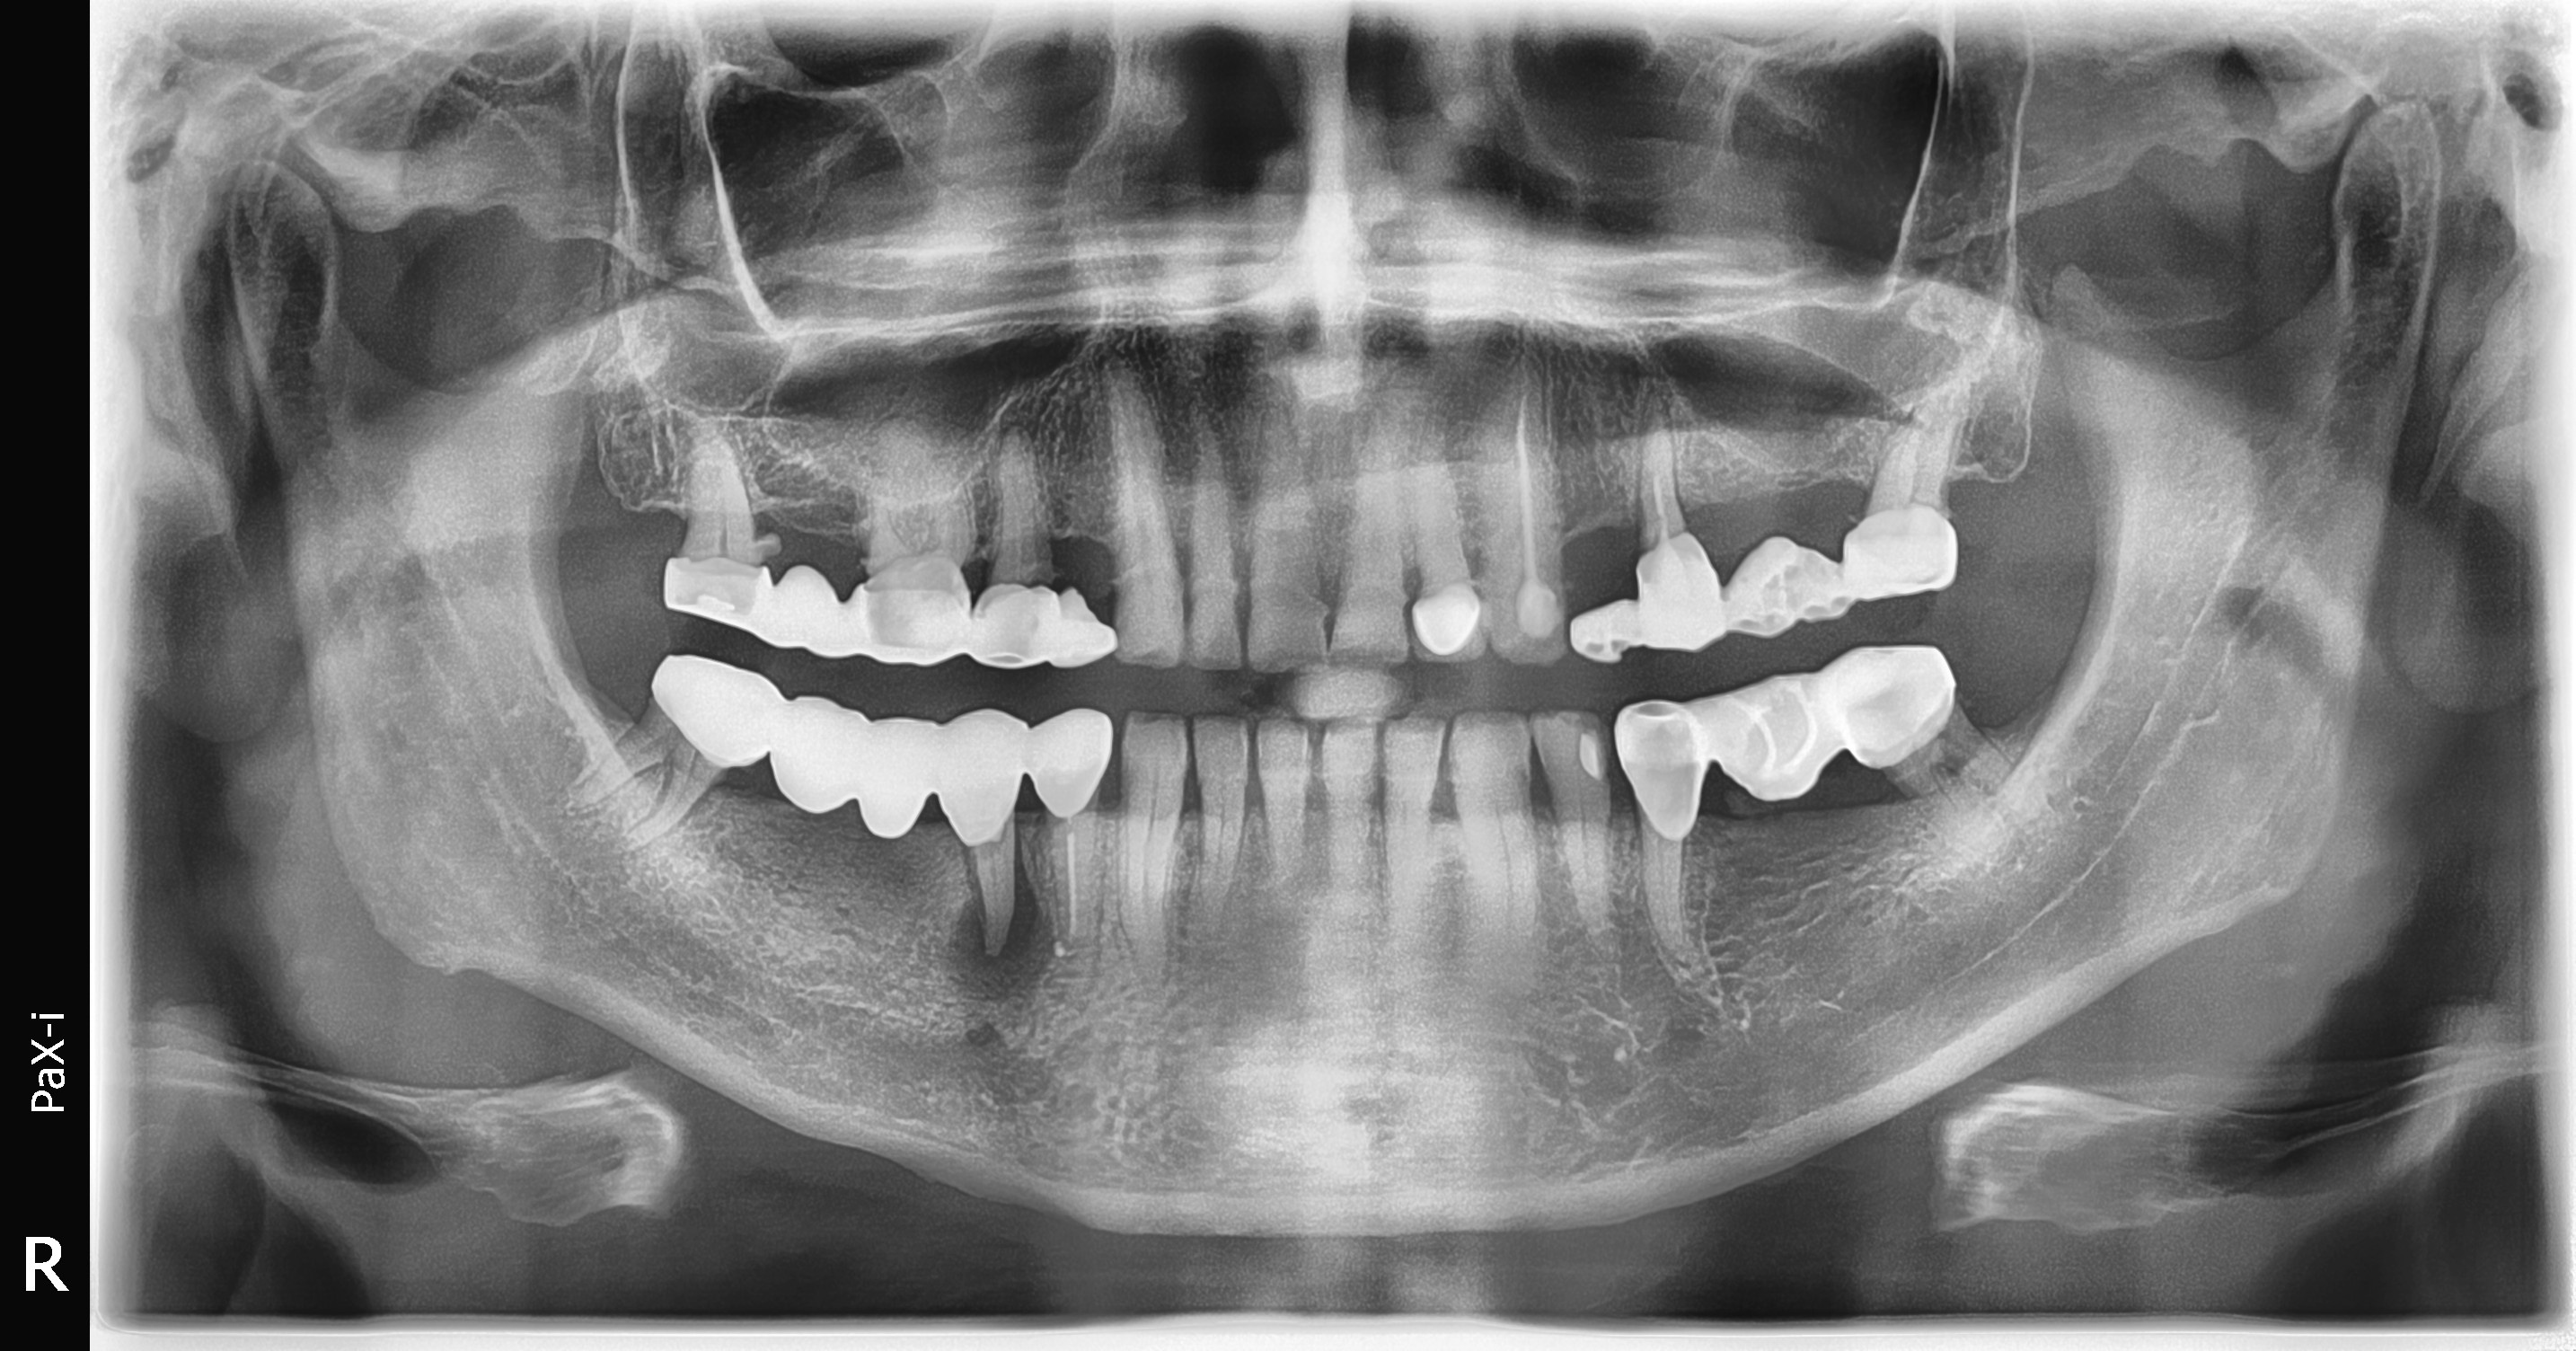API: (922, 884, 1061, 1048)
END: (1498, 375, 1561, 576), (1036, 794, 1104, 963), (1622, 390, 1695, 543)
FUR: (1917, 739, 1988, 799)
OBT: (1504, 574, 1576, 663), (1555, 721, 1617, 801)
PRR: (630, 629, 1126, 859), (1607, 608, 1992, 862), (1550, 479, 1992, 687), (653, 545, 1141, 705), (1394, 566, 1486, 681)
